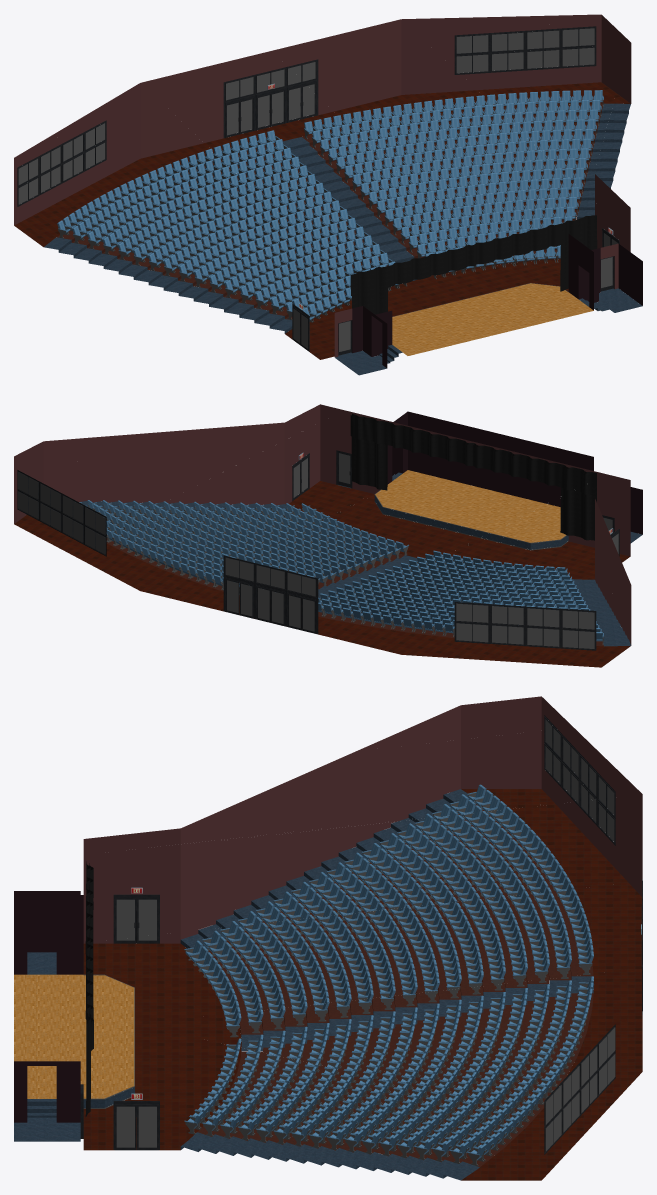
3 renders of one model, top to bottom at view 1: azimuth 30°, elevation 25°; view 2: azimuth 150°, elevation 25°; view 3: azimuth 270°, elevation 25°, orthographic. The views are drawn at different scales.
Visible parts, largest first — view 1: Material2 (×13), Material3; view 2: Material2 (×13), Material3; view 3: Material2 (×12), Material3.
Part boxes in pixels (box(x1,y1,x2,y2)): Material2 (×13): box(14, 14, 642, 375); Material3: box(352, 234, 642, 367); Material2 (×13): box(14, 404, 642, 667); Material3: box(387, 411, 642, 534); Material2 (×12): box(14, 696, 642, 1180); Material3: box(14, 891, 83, 1122).
Size of the model in its own units: 1514 by 299 by 1028.
19 materials, 19 textured.
